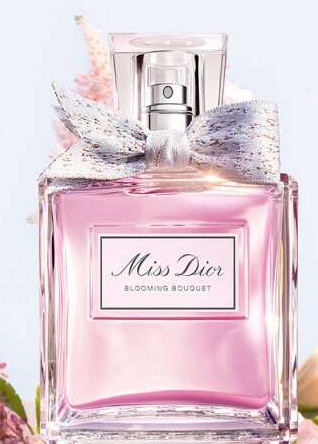dior_miss_dior: (30, 27, 302, 444)
